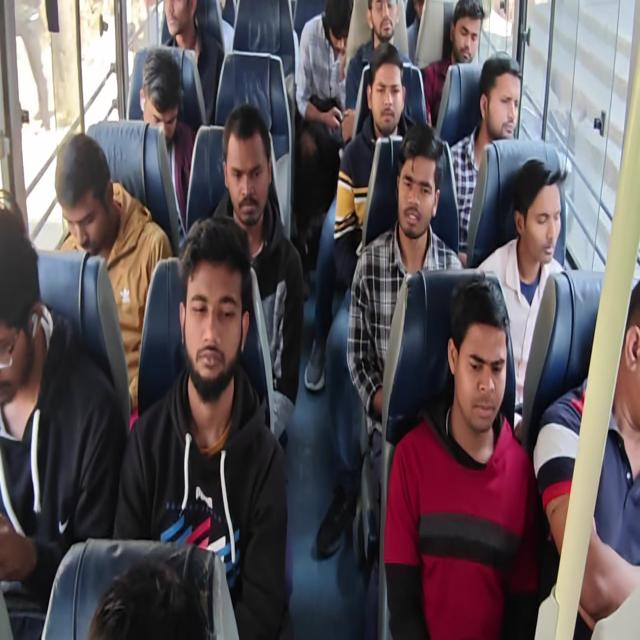person: (162, 215, 248, 392), (444, 280, 516, 446), (103, 537, 215, 640), (49, 137, 133, 250), (216, 112, 282, 235), (504, 152, 570, 259), (401, 130, 448, 253), (134, 36, 183, 142), (479, 53, 527, 143), (616, 277, 640, 432), (362, 42, 403, 132), (321, 2, 355, 54), (451, 3, 482, 58), (162, 4, 198, 41), (369, 1, 399, 42)
